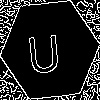U: (25, 25, 63, 75)
